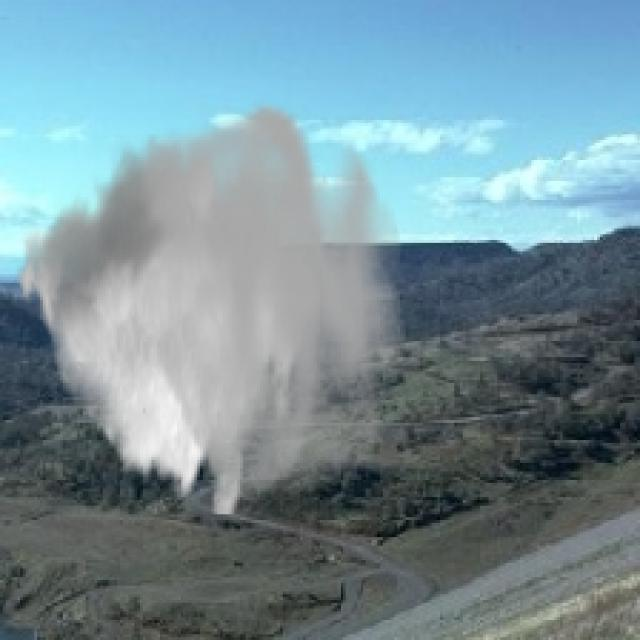smoke: (14, 97, 406, 514)
